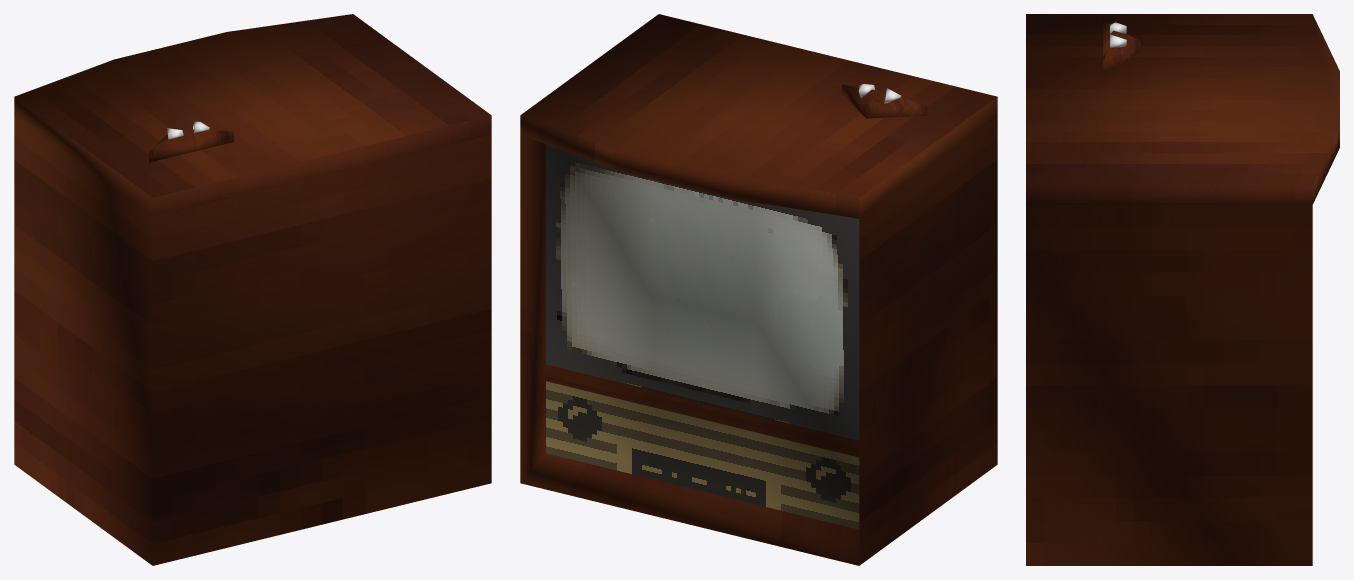
File: tv no stand.glb
3 views of the same model, side by side, from view 1: azimuth 30°, elevation 25°; view 2: azimuth 150°, elevation 25°; view 3: azimuth 270°, elevation 25° (orthographic). The views are drawn at different scales.
Visible parts, largest first — view 1: Cube.007; view 2: Cube.007; view 3: Cube.007.
Part boxes in pixels (x1,y1,x2,y2): Cube.007: (14, 14, 491, 565); Cube.007: (520, 14, 997, 565); Cube.007: (1026, 14, 1339, 565).
Size of the model in its own units: 0.5962 by 0.6561 by 0.4619.
Materials: 3 (2 with a texture image).
